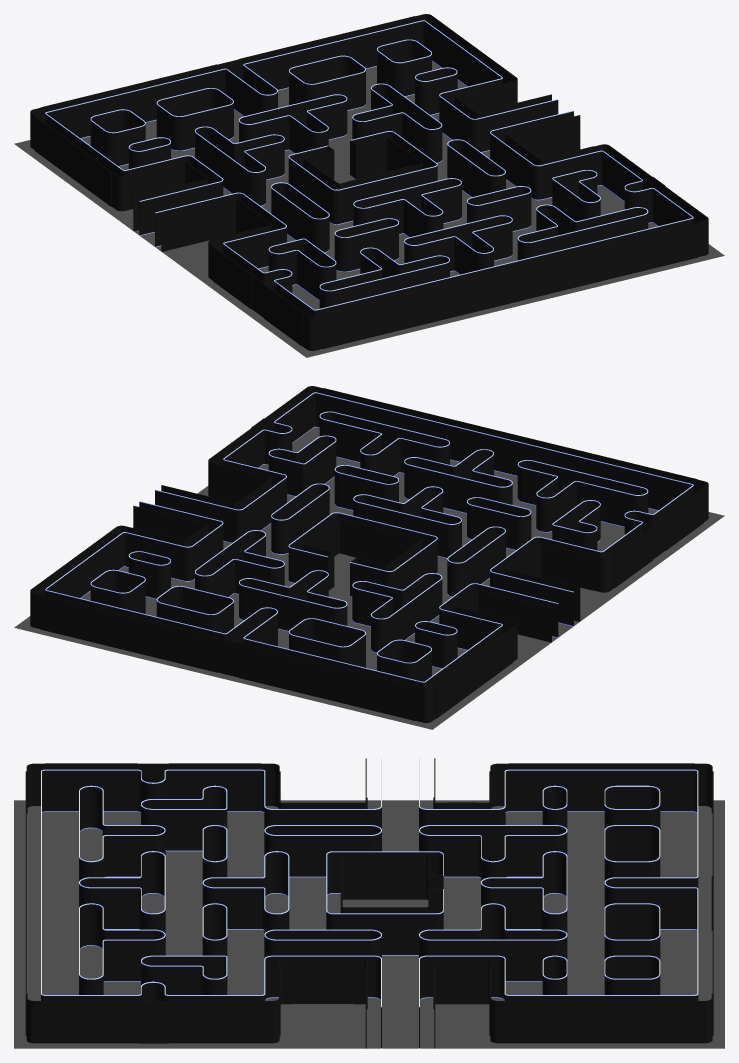
Rendered from Laberinto_.fbx.
3 renders of one model, top to bottom at view 1: azimuth 30°, elevation 25°; view 2: azimuth 150°, elevation 25°; view 3: azimuth 270°, elevation 25°, orthographic. The views are drawn at different scales.
Visible parts, largest first — view 1: Floor, Wall.321, Wall.325, Wall.211, Wall.155, Wall.233, Wall.299, Wall.165, Wall.191, Wall.311, Wall.295, Wall.115 (+126 smaller); view 2: Floor, Wall.164, Wall.191, Wall.158, Wall.211, Wall.256, Wall.247, Wall.264, Wall.269, Wall.233, Wall.271, Wall.200 (+125 smaller); view 3: Floor, Wall.213, Wall.227, Wall.275, Wall.216, Wall.284, Wall.286, Wall.261, Wall.240, Wall.244, Wall.252, Wall.280 (+121 smaller).
Part boxes in pixels (x1,y1,x2,y2): Floor: [14, 61, 724, 357]; Wall.321: [323, 180, 354, 224]; Wall.325: [350, 135, 378, 179]; Wall.211: [155, 207, 183, 251]; Wall.155: [524, 155, 555, 200]; Wall.233: [334, 227, 360, 271]; Wall.299: [164, 109, 195, 150]; Wall.165: [461, 109, 492, 152]; Wall.191: [133, 191, 161, 235]; Wall.311: [384, 56, 415, 96]; Wall.295: [98, 126, 129, 166]; Wall.115: [405, 283, 433, 327]; Floor: [14, 427, 724, 729]; Wall.164: [170, 537, 201, 581]; Wall.191: [529, 598, 558, 642]; Wall.158: [221, 500, 252, 542]; Wall.211: [551, 582, 580, 626]; Wall.256: [335, 415, 367, 461]; Wall.247: [600, 479, 631, 526]; Wall.264: [284, 451, 315, 496]; Wall.269: [431, 624, 457, 668]; Wall.233: [505, 506, 531, 550]; Wall.271: [145, 554, 170, 599]; Wall.200: [195, 628, 223, 672]; Floor: [14, 800, 724, 1048]; Wall.213: [663, 877, 694, 929]; Wall.227: [230, 877, 261, 929]; Wall.275: [508, 877, 539, 929]; Wall.216: [292, 825, 323, 877]; Wall.284: [508, 825, 539, 877]; Wall.286: [508, 929, 539, 981]; Wall.261: [168, 799, 199, 851]; Wall.240: [107, 877, 137, 929]; Wall.244: [107, 825, 137, 877]; Wall.252: [107, 929, 137, 981]; Wall.280: [447, 825, 477, 877].
Size of the model in its own units: 1900 by 150 by 2300.
